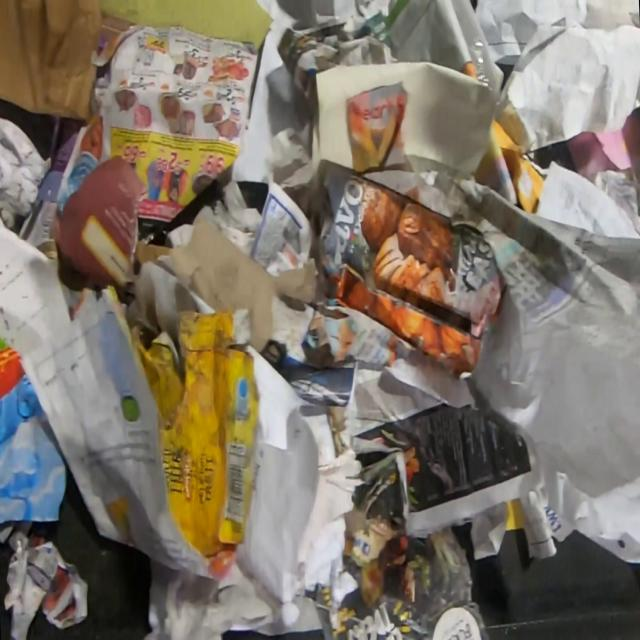cardboard: (131, 306, 260, 561), (315, 460, 490, 640)
soft_plastic: (522, 277, 640, 499), (468, 34, 504, 118)
